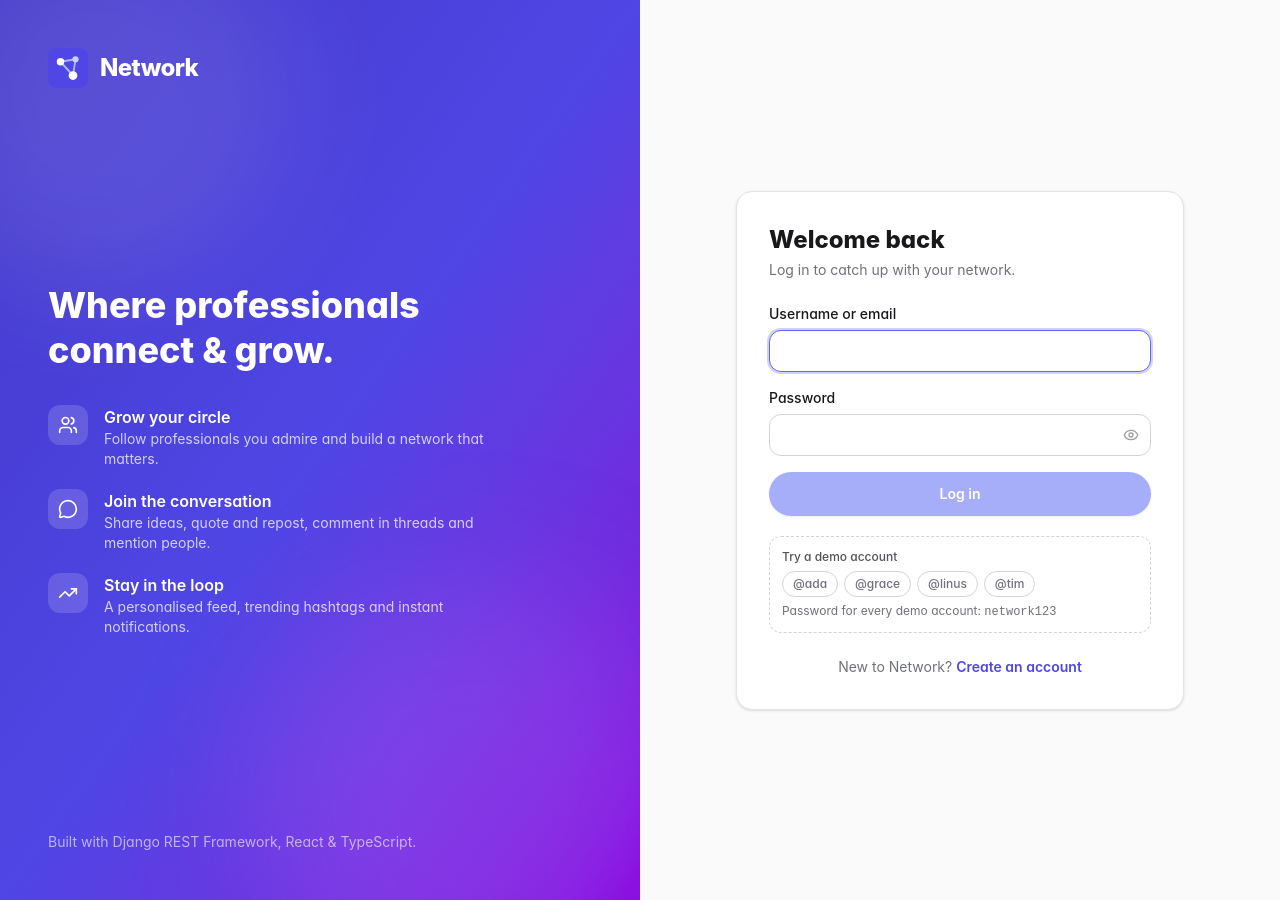
Test: LoginPage › fills a demo account on click
Step 1. Click the button "@grace" → coordinates (878, 584), box x1=844 y1=570 x2=911 y2=596
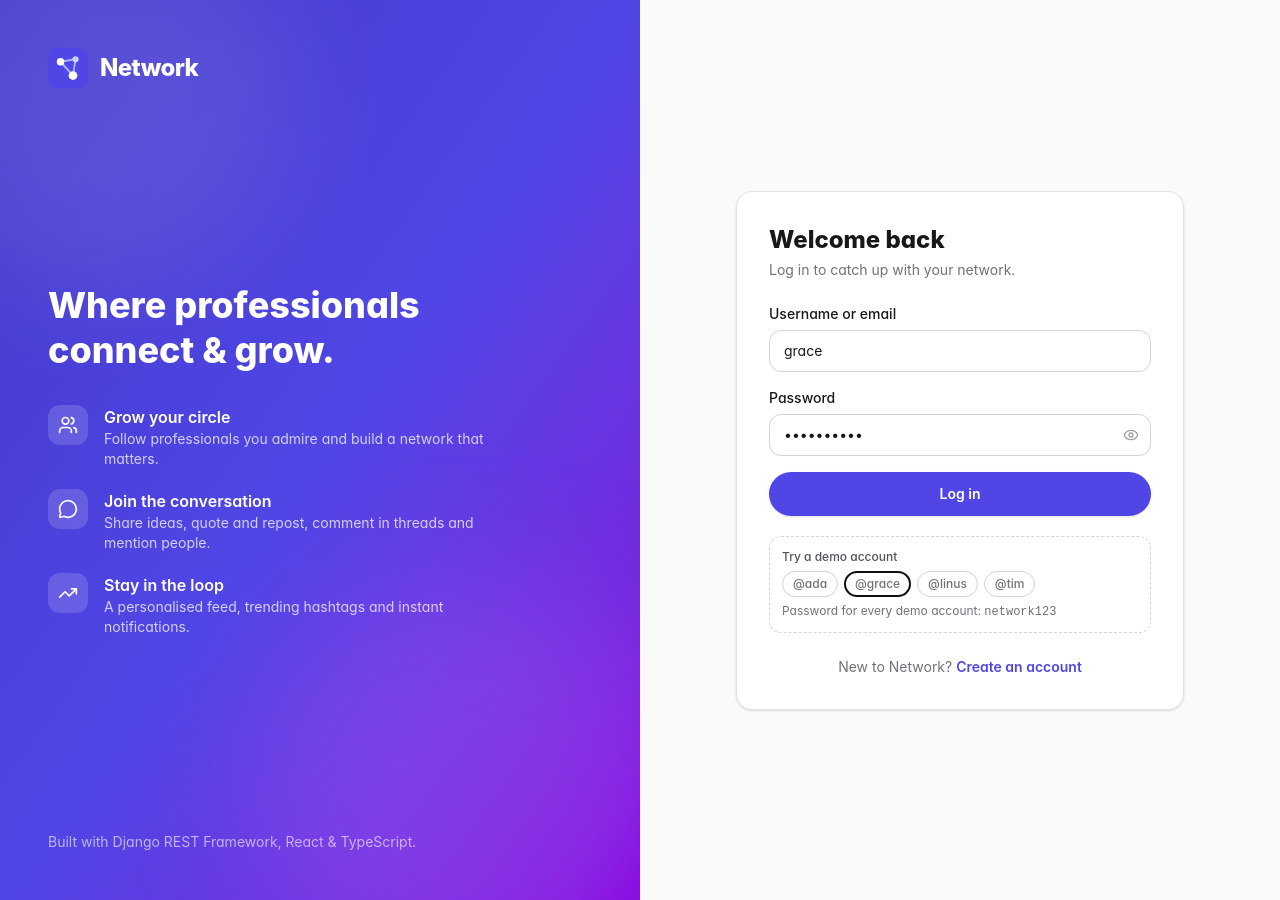
Check: the field labelled "Username or email" holds "grace", box x1=769 y1=330 x2=1151 y2=372
Check: the password field labelled "Password" holds "network123", box x1=769 y1=414 x2=1151 y2=456
